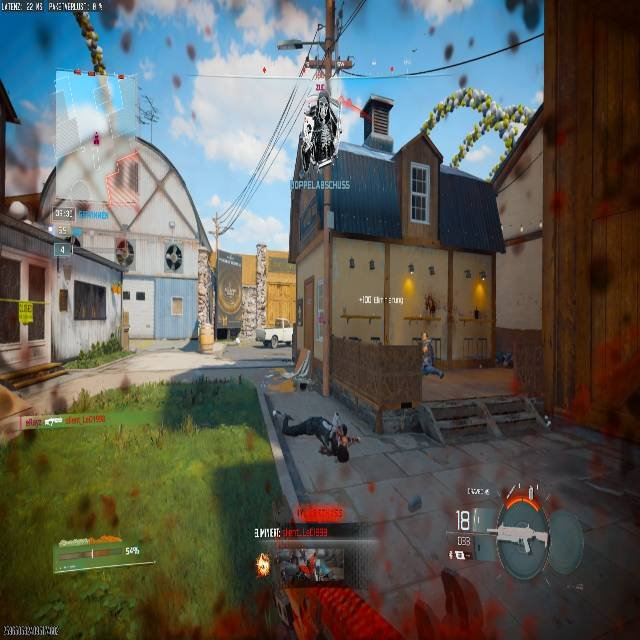player: (412, 331, 443, 380), (418, 341, 438, 378)
